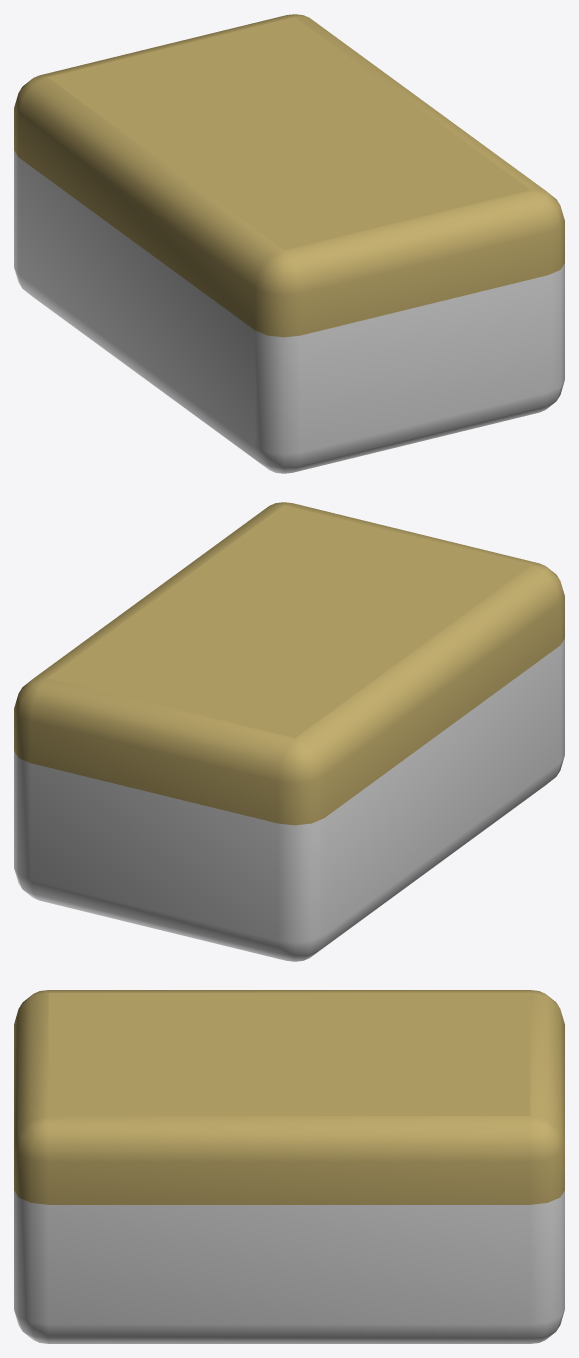
The model's file is majiang.fbx.
3 views of the same model, one above another, from view 1: azimuth 30°, elevation 25°; view 2: azimuth 150°, elevation 25°; view 3: azimuth 270°, elevation 25° (orthographic). The views are drawn at different scales.
Visible parts, largest first — view 1: ChamferBox25; view 2: ChamferBox25; view 3: ChamferBox25.
Boxes of the visible parts, left/top/right/bottom form: ChamferBox25: left=14, top=14, right=564, bottom=473; ChamferBox25: left=14, top=502, right=564, bottom=961; ChamferBox25: left=14, top=990, right=564, bottom=1343.
Bounding box in the file's own units: 2.94 × 2.02 × 4.5.
